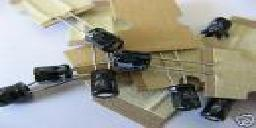Electrolytic-Capacitor: (57, 7, 130, 49), (115, 48, 218, 77), (88, 61, 121, 104), (197, 12, 235, 43), (30, 63, 81, 83), (165, 80, 200, 109), (198, 97, 232, 124), (1, 79, 33, 107)
